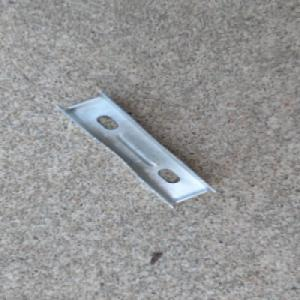ClampPart: (50, 88, 217, 209)
